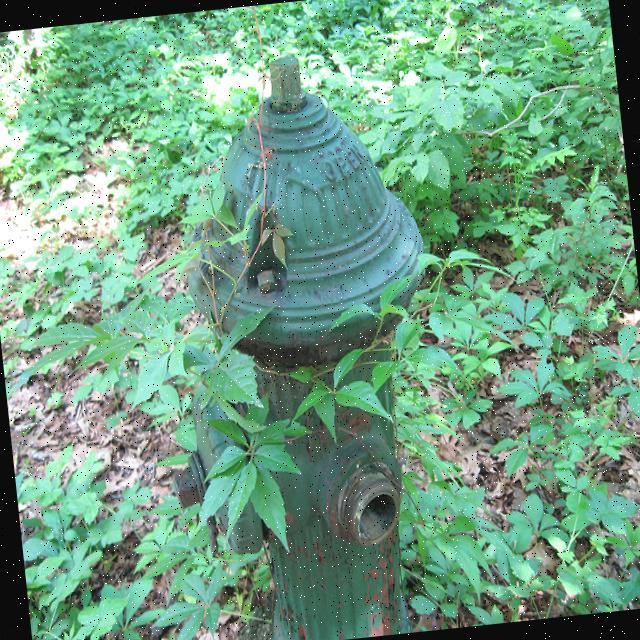fire_hydrant: (127, 40, 464, 640)
